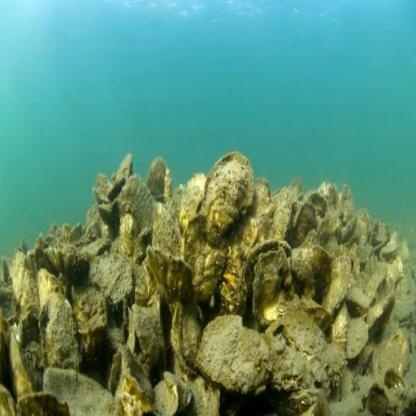Oyster- Indeterminate: (115, 347, 157, 416), (171, 307, 204, 377)
Oyster-Closed: (198, 316, 273, 393), (204, 155, 254, 245), (183, 213, 226, 305), (237, 241, 293, 307), (149, 248, 197, 318), (43, 371, 117, 416), (40, 293, 81, 373), (87, 254, 135, 303), (120, 174, 153, 239), (282, 312, 327, 358), (294, 247, 336, 291), (152, 201, 183, 259), (322, 256, 351, 318), (73, 284, 106, 335), (9, 332, 33, 402), (135, 305, 161, 366), (135, 257, 163, 312), (48, 248, 93, 282), (181, 173, 206, 229), (290, 203, 319, 249), (365, 294, 394, 340), (17, 394, 74, 416), (36, 269, 67, 309), (269, 190, 292, 239), (146, 159, 170, 199), (0, 307, 11, 386), (328, 307, 347, 350), (303, 307, 332, 329), (344, 287, 371, 310), (0, 380, 17, 416), (318, 183, 338, 207), (356, 210, 369, 244), (114, 155, 133, 178), (380, 243, 398, 257)
Oyster-Open: (367, 382, 392, 416)
